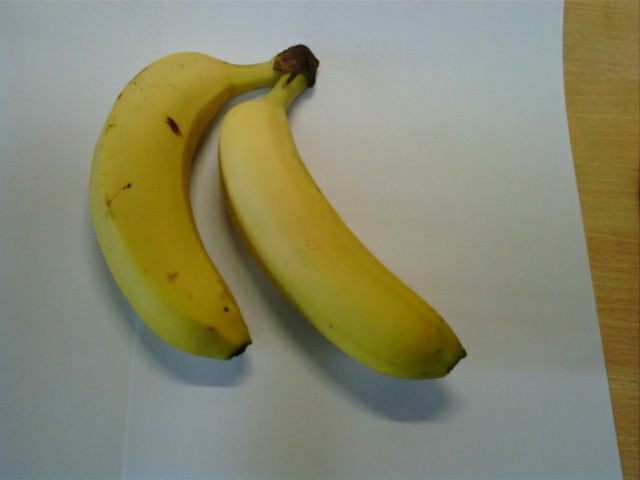fresh_banana: (216, 84, 467, 380)
normal_banana: (90, 48, 248, 362)
